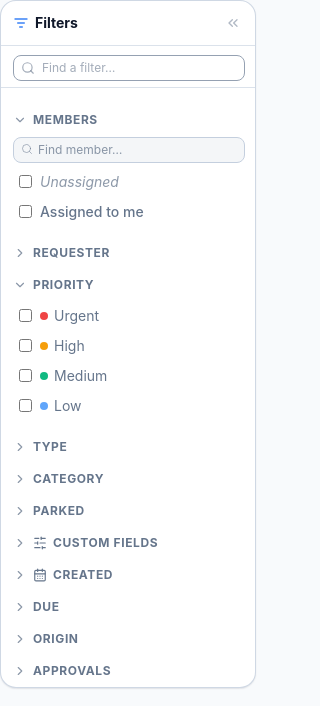
Test: TicketFilterRail — Custom fields facet (Phase 2) › renders a typed input per definition once the defs load
(page scrolled)
Click the button "Custom fields".
click(129, 542)  # box top-left (13, 534), bottom-right (245, 550)
(page scrolled)
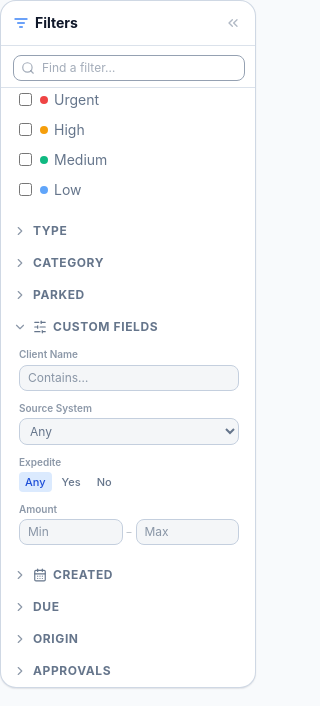
Check: the field named "Filter by Client Name" is shown, box top-left (19, 364), bottom-right (239, 390)
Check: the dropdown named "Filter by Source System" shows "Any", box top-left (19, 418), bottom-right (239, 444)
Check: the element named "Filter by Expedite" is shown, box top-left (19, 472), bottom-right (118, 492)
